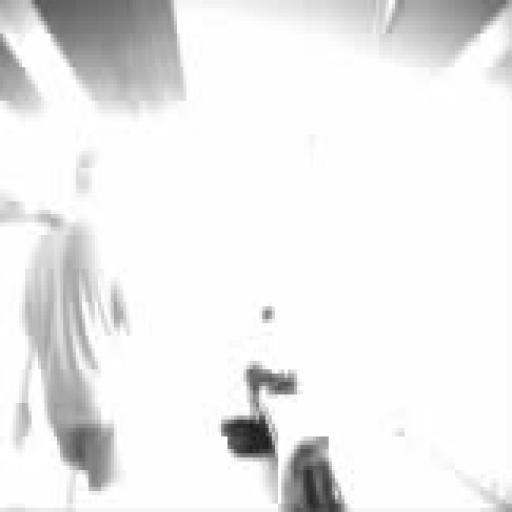human: (16, 156, 129, 507)
